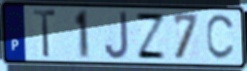1: (74, 8, 93, 62)
7: (172, 12, 200, 62)
C: (205, 13, 238, 62)
J: (103, 10, 130, 61)
T: (31, 8, 58, 60)
Z: (133, 11, 168, 61)
